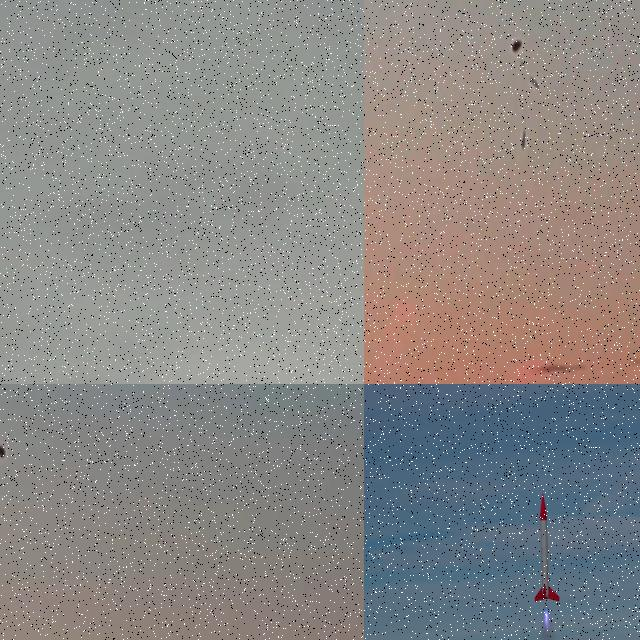Rocket: (533, 493, 561, 602), (522, 130, 526, 148)
